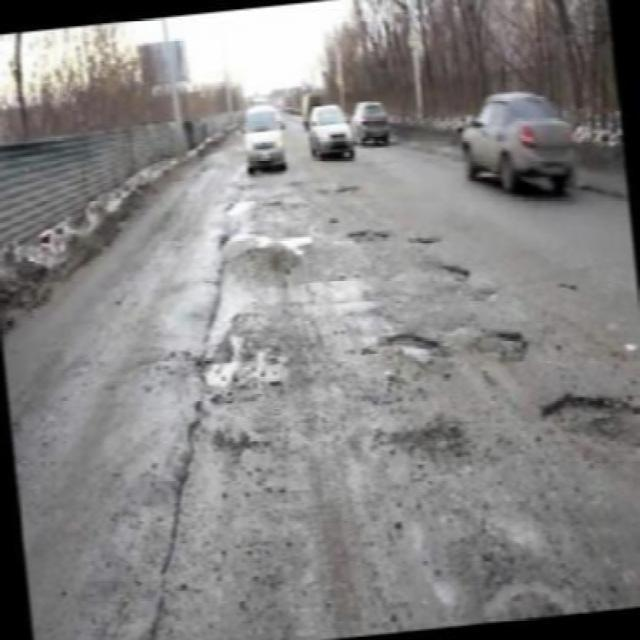Pothole: (131, 395, 299, 640), (407, 546, 587, 621), (197, 184, 321, 277), (344, 414, 477, 498), (193, 313, 294, 399), (536, 387, 640, 454), (360, 329, 470, 386), (333, 220, 405, 252), (483, 328, 540, 365), (425, 258, 477, 292), (404, 231, 452, 247), (326, 180, 361, 200)
